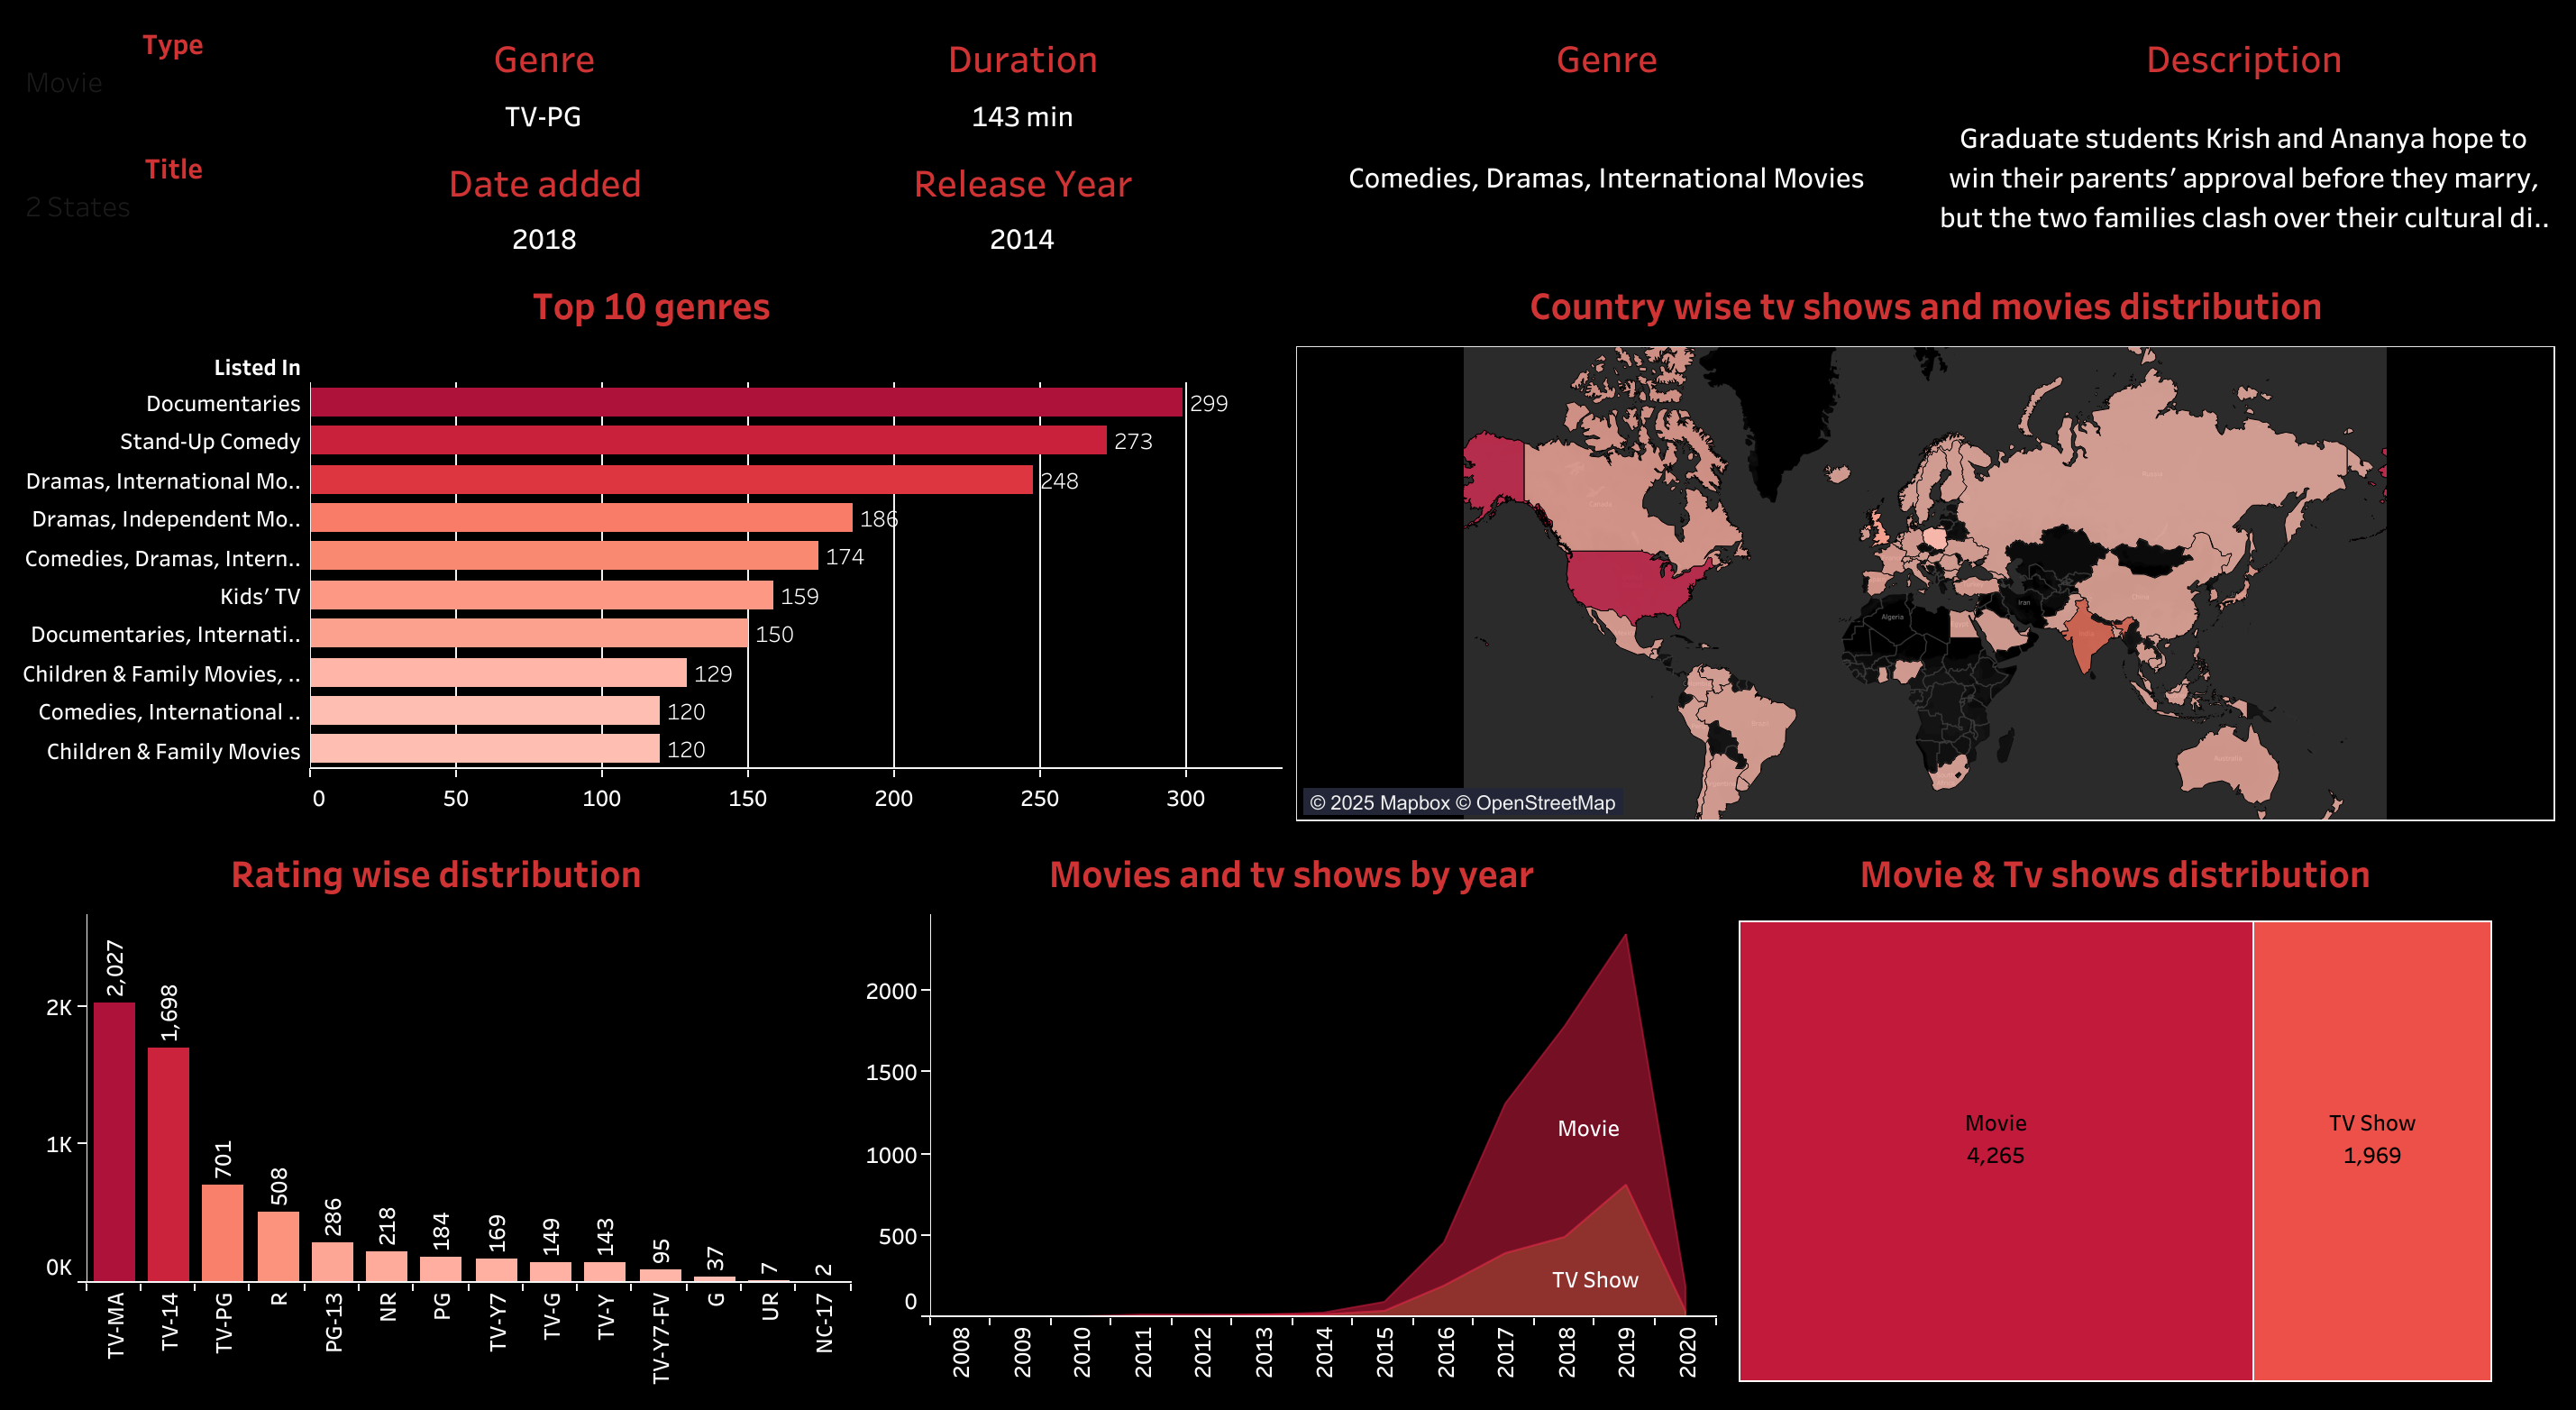

Layout of this report page (visuals, bound fields, positions):
{"tool":"tableau","page":{"name":"Netflix","canvas":[1000,1000],"units":"permille","ordinal":0},"visuals":[{"type":"filter","title":"Description","param":"[federated.03ju5gl1i98hzz1eox77a1pmtgse].[none:type:nk]","box":[6.4,10.5,123.1,87.5]},{"type":"worksheet","title":"Ratings","mark":"Automatic","box":[129.5,10.5,164.4,87.5]},{"type":"worksheet","title":"Duration","mark":"Automatic","box":[293.9,10.5,206.1,87.5]},{"type":"worksheet","title":"Genre","mark":"Automatic","box":[500,10.5,246.8,175]},{"type":"worksheet","title":"Description","mark":"Automatic","box":[746.8,10.5,246.8,175]},{"type":"filter","title":"Description","param":"[federated.03ju5gl1i98hzz1eox77a1pmtgse].[none:title:nk]","box":[6.4,98,123.4,87.5]},{"type":"worksheet","title":"Date added","mark":"Automatic","box":[129.8,98,164.1,87.5]},{"type":"worksheet","title":"Release Year","mark":"Automatic","box":[293.9,98,206.1,87.5]},{"type":"worksheet","title":"top 10 genres overall","mark":"Automatic","rows":["listed_in"],"cols":["show_id"],"box":[6.4,185.5,493.5,402]},{"type":"worksheet","title":"country wise tv shows & movies distribution","mark":"Multipolygon","box":[500,185.5,493.6,402]},{"type":"worksheet","title":"rating wise distribution","mark":"Automatic","rows":["show_id"],"cols":["rating"],"box":[6.4,587.5,326.4,402]},{"type":"worksheet","title":"year wise movies & tv shows","mark":"Area","rows":["show_id"],"cols":["date_added"],"box":[332.9,587.5,336,402]},{"type":"worksheet","title":"movies & tv shows distribution","mark":"Square","box":[668.8,587.5,324.8,402]}]}

Visuals, with their boxes on the dashboard's canvas, which has no fixed pixel size, in thousandths of its width and height (x1, y1, x2, y2). These are canvas units, not pixel positions in the 2576x1410 screenshot, which may show the page scaled, cropped or inside an application window:
"Description" filter: box(6, 10, 130, 98)
"Ratings" worksheet: box(130, 10, 294, 98)
"Duration" worksheet: box(294, 10, 500, 98)
"Genre" worksheet: box(500, 10, 747, 186)
"Description" worksheet: box(747, 10, 994, 186)
"Description" filter: box(6, 98, 130, 186)
"Date added" worksheet: box(130, 98, 294, 186)
"Release Year" worksheet: box(294, 98, 500, 186)
"top 10 genres overall" worksheet: box(6, 186, 500, 588)
"country wise tv shows & movies distribution" worksheet (Multipolygon marks): box(500, 186, 994, 588)
"rating wise distribution" worksheet: box(6, 588, 333, 990)
"year wise movies & tv shows" worksheet (Area marks): box(333, 588, 669, 990)
"movies & tv shows distribution" worksheet (Square marks): box(669, 588, 994, 990)
